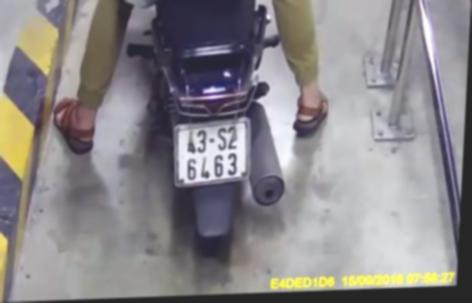License_Plate: (165, 114, 259, 194)
